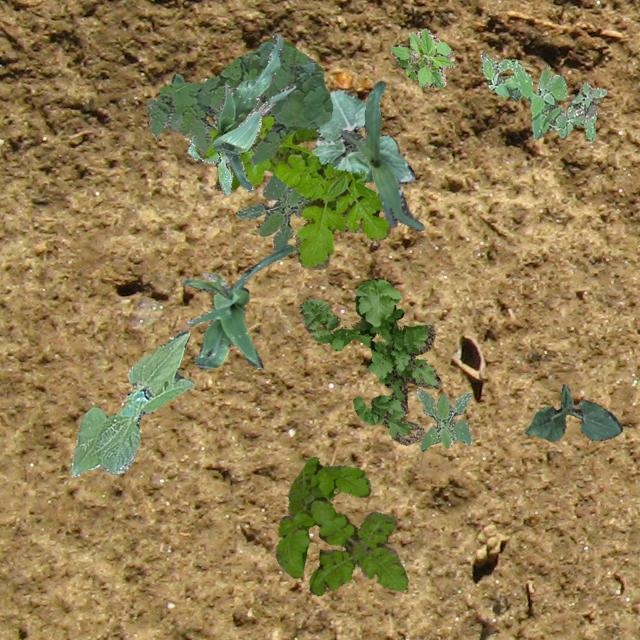crop: (70, 328, 192, 476), (180, 244, 292, 368), (210, 31, 294, 190), (338, 80, 423, 230), (310, 89, 414, 184), (524, 382, 622, 440), (170, 72, 182, 84)
weed: (194, 114, 390, 268), (298, 278, 440, 444), (144, 42, 332, 164), (274, 456, 408, 594), (212, 41, 316, 191), (480, 51, 606, 140), (234, 172, 310, 250), (388, 28, 454, 88), (188, 136, 256, 194), (416, 388, 470, 450)
